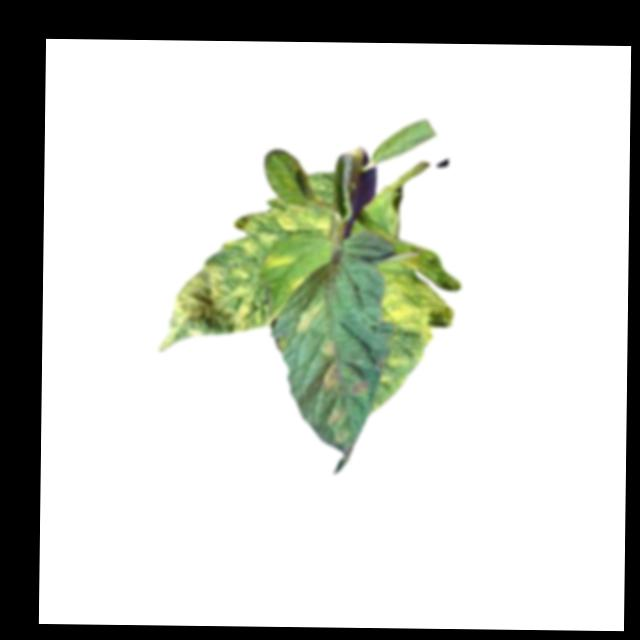Leaf_Mold: (157, 234, 268, 356), (374, 251, 463, 348), (238, 203, 335, 236), (291, 296, 326, 337), (319, 359, 342, 389), (264, 252, 299, 268), (319, 338, 336, 358)
